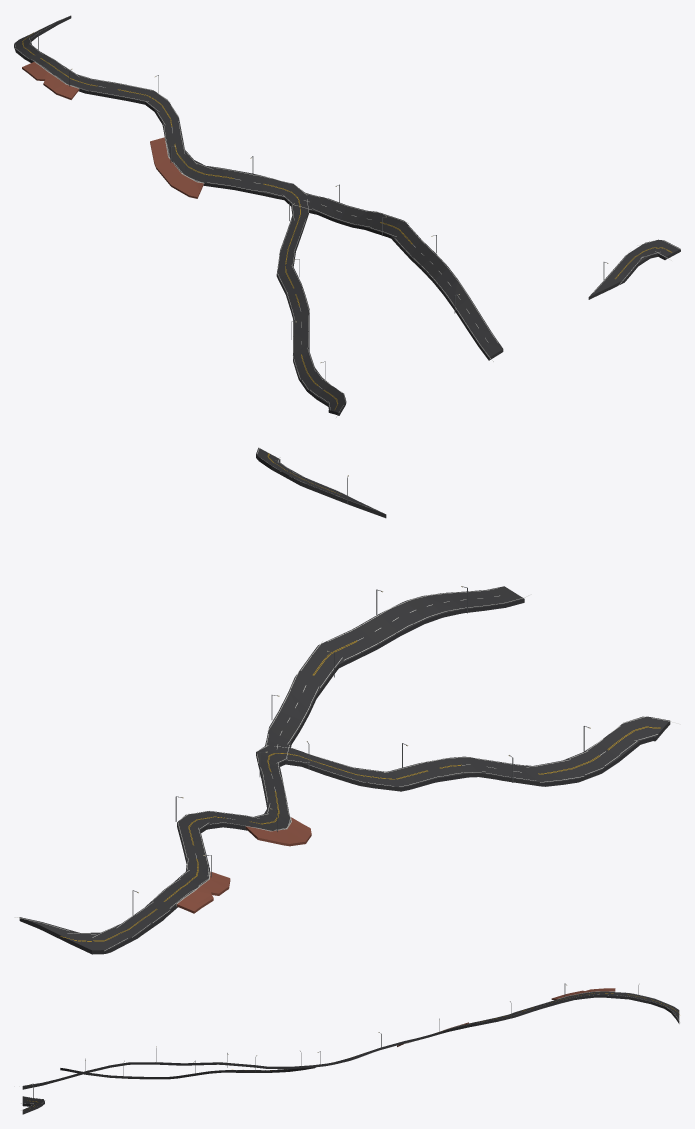
File: 17-109398-59481.5fdb12a9.glb
The picture shows the model from 3 angles, top to bottom: view 1: azimuth 30°, elevation 25°; view 2: azimuth 150°, elevation 25°; view 3: azimuth 270°, elevation 25°; orthographic projection. The views are drawn at different scales.
Size of the model in its own units: 140 by 53.81 by 296.
